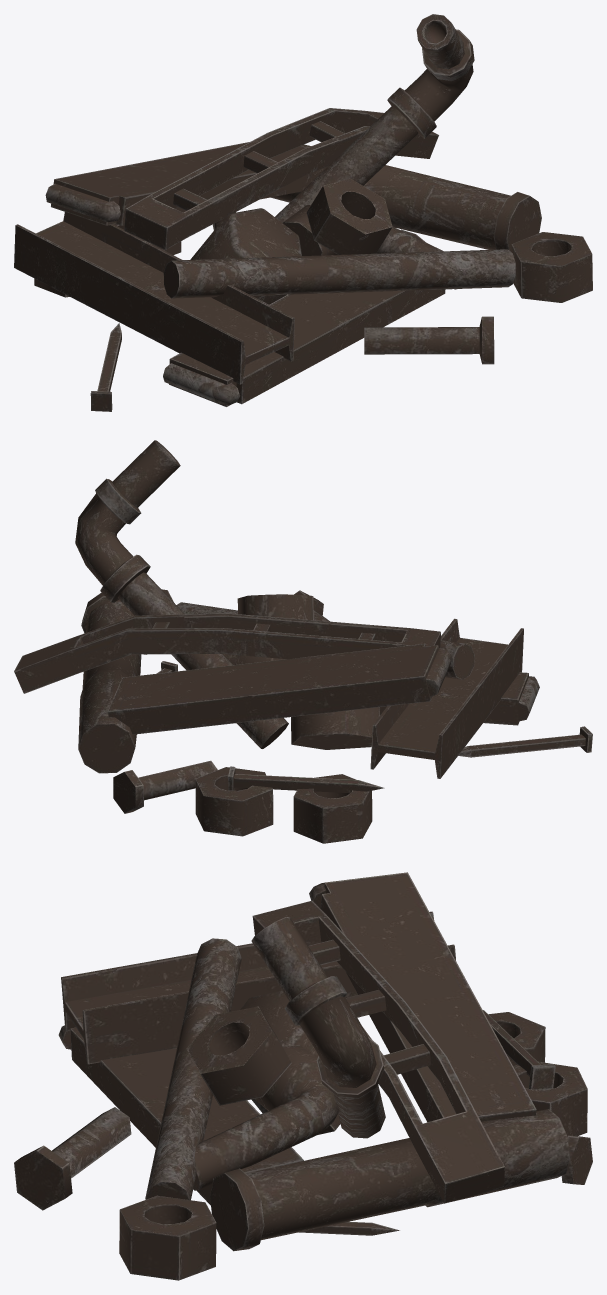
Rendered from Scrap.obj.
3 renders of one model, top to bottom at view 1: azimuth 30°, elevation 25°; view 2: azimuth 150°, elevation 25°; view 3: azimuth 270°, elevation 25°, orthographic. The views are drawn at different scales.
Parts seen in each view (by area): view 1: defaultMaterial; view 2: defaultMaterial; view 3: defaultMaterial.
Boxes of the visible parts, x1,y1,x2,y2 form: defaultMaterial: [14, 14, 592, 411]; defaultMaterial: [14, 440, 592, 843]; defaultMaterial: [14, 872, 592, 1280].
Bounding box in the file's own units: 0.4266 × 0.2219 × 0.3561.
1 material, 1 textured.
